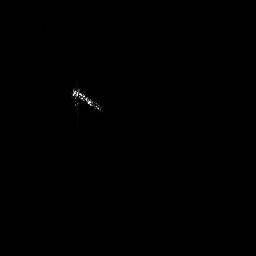ship: (67, 84, 106, 115)
